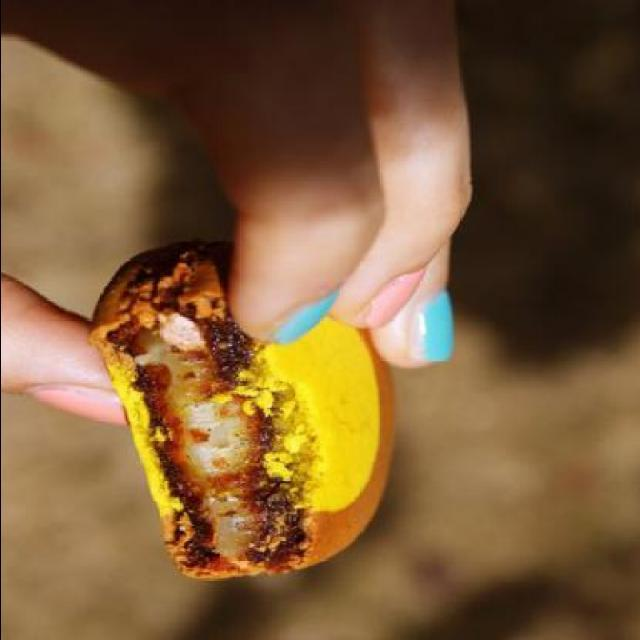Macaron: (82, 211, 393, 594)
